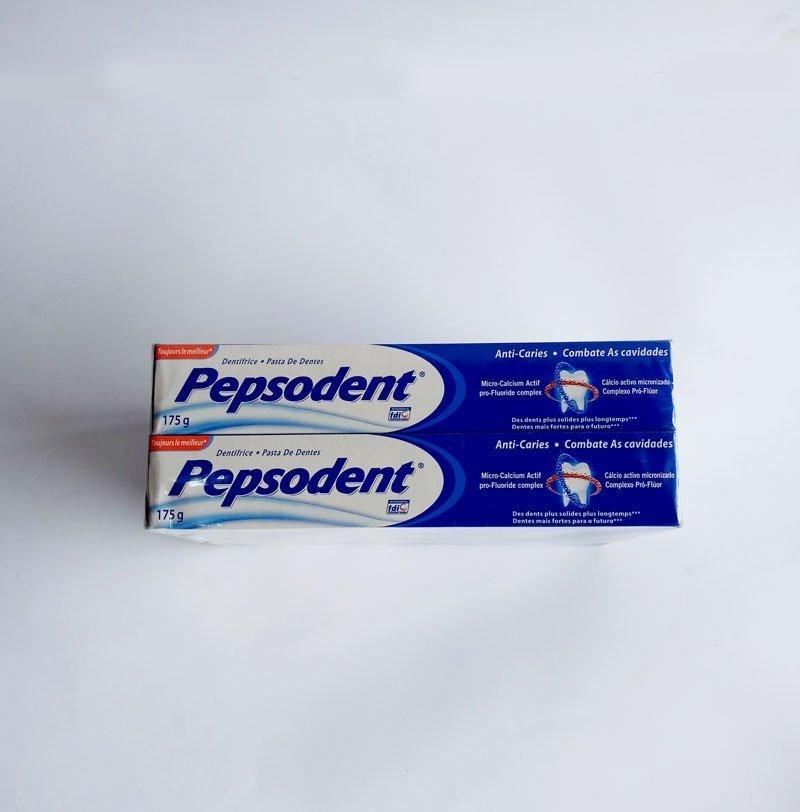toothpaste: (147, 427, 685, 534), (148, 334, 680, 434)
